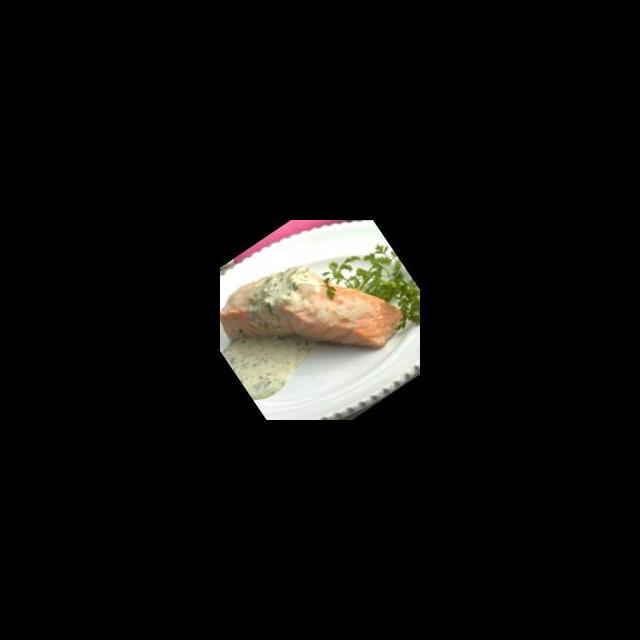ca hoi: (223, 271, 401, 355)
ca hoi sot pho mai kem: (220, 254, 420, 402)
pho mai: (240, 261, 322, 331), (227, 335, 319, 393)
